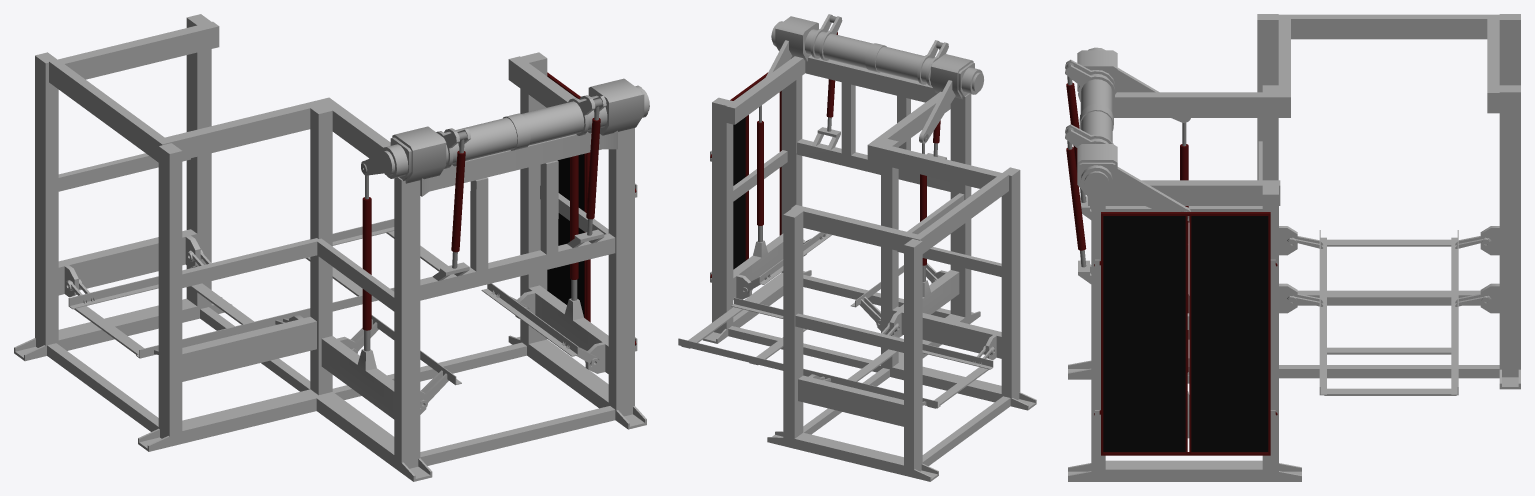
File: SM_ProdLine_Press_C.FBX
3 views of the same model, side by side, from view 1: azimuth 30°, elevation 25°; view 2: azimuth 150°, elevation 25°; view 3: azimuth 270°, elevation 25° (orthographic). The views are drawn at different scales.
Parts seen in each view (by area): view 1: SM_ProdLine_Press_C_LOD0; view 2: SM_ProdLine_Press_C_LOD0; view 3: SM_ProdLine_Press_C_LOD0.
Part boxes in pixels (x1,y1,x2,y2): SM_ProdLine_Press_C_LOD0: (14,14,649,481); SM_ProdLine_Press_C_LOD0: (678,14,1036,481); SM_ProdLine_Press_C_LOD0: (1065,14,1520,481).
Bounding box in the file's own units: 348 × 341 × 273.
